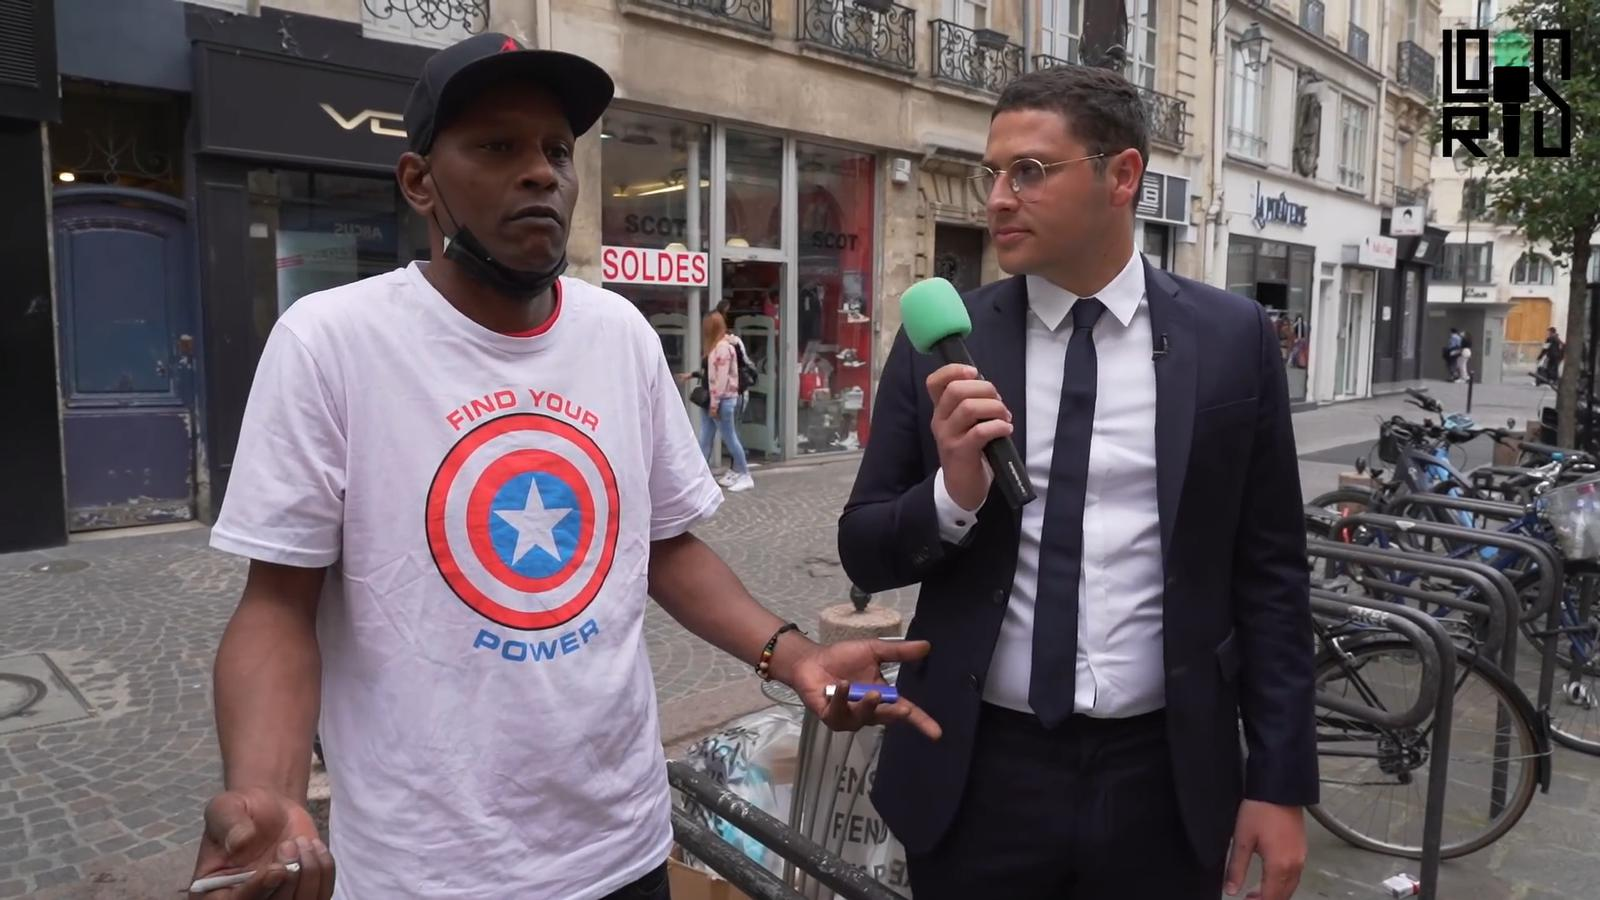with_incorrect_mask: (437, 130, 569, 270)
without_mask: (994, 139, 1099, 263)
